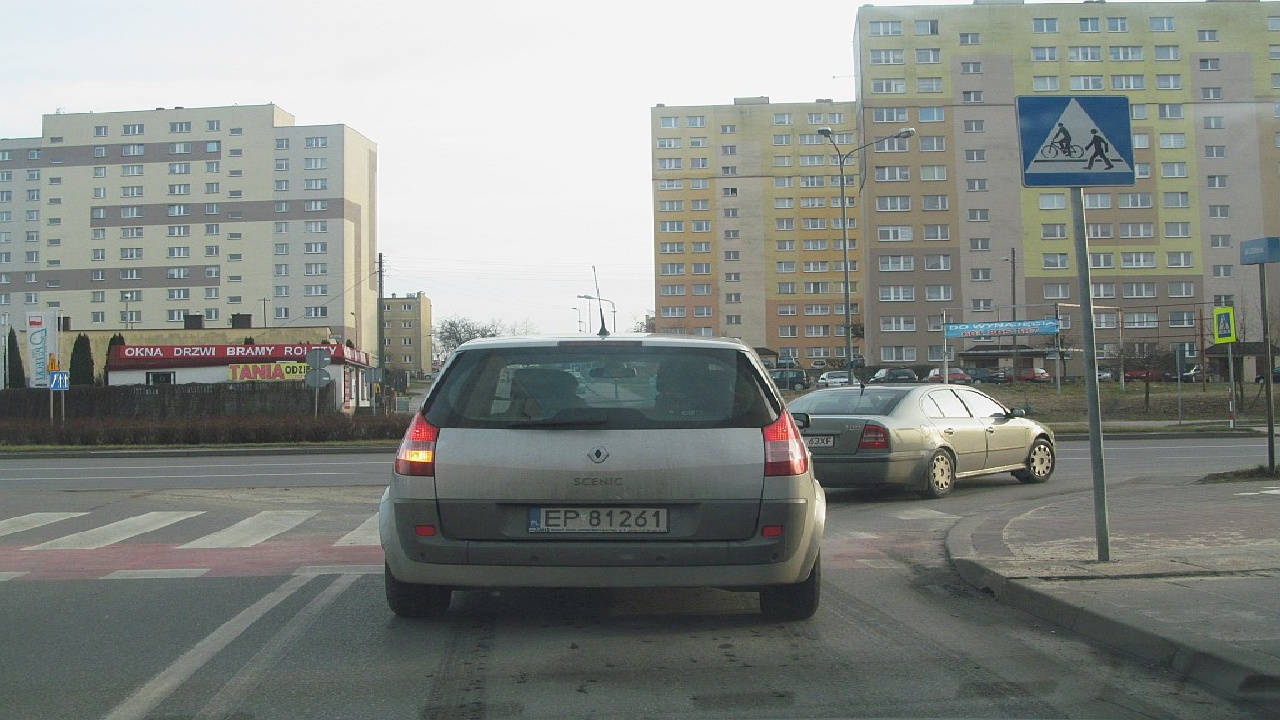D6b: (1013, 94, 1138, 189)
